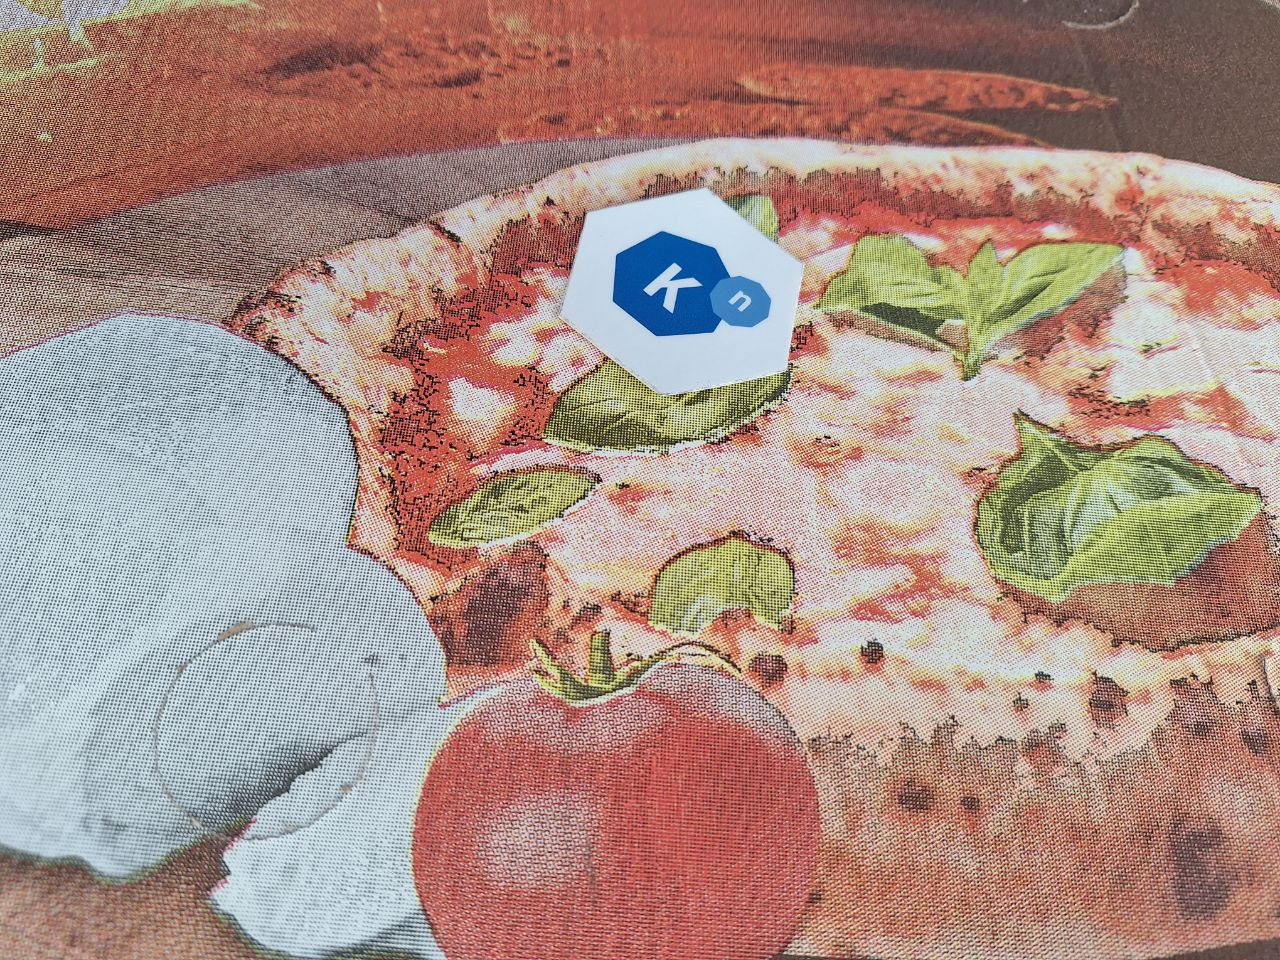knative: (613, 228, 772, 338)
